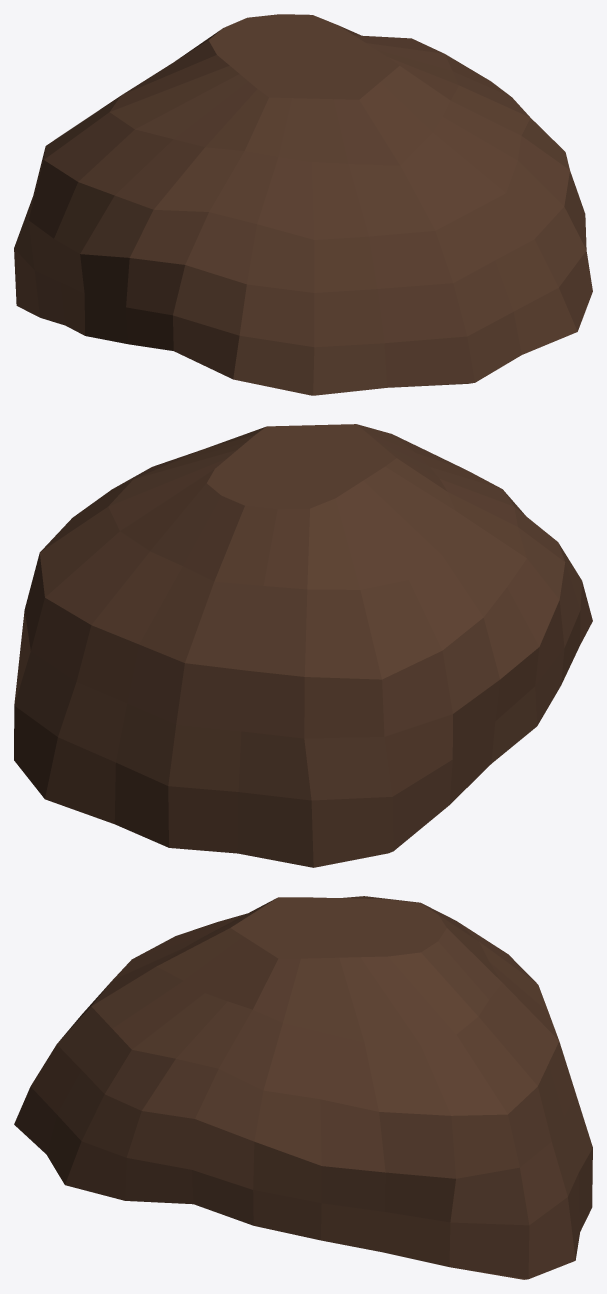
File: franja_blocada.glb
The picture shows the model from 3 angles, top to bottom: view 1: azimuth 30°, elevation 25°; view 2: azimuth 150°, elevation 25°; view 3: azimuth 270°, elevation 25°; orthographic projection. The views are drawn at different scales.
Visible parts, largest first — view 1: R19_franja_blocada; view 2: R19_franja_blocada; view 3: R19_franja_blocada.
Boxes of the visible parts, <box> form: R19_franja_blocada: <box>14,14,592,395</box>; R19_franja_blocada: <box>14,424,592,867</box>; R19_franja_blocada: <box>14,896,592,1279</box>.
Bounding box in the file's own units: 0.236 × 0.1403 × 0.2637.
